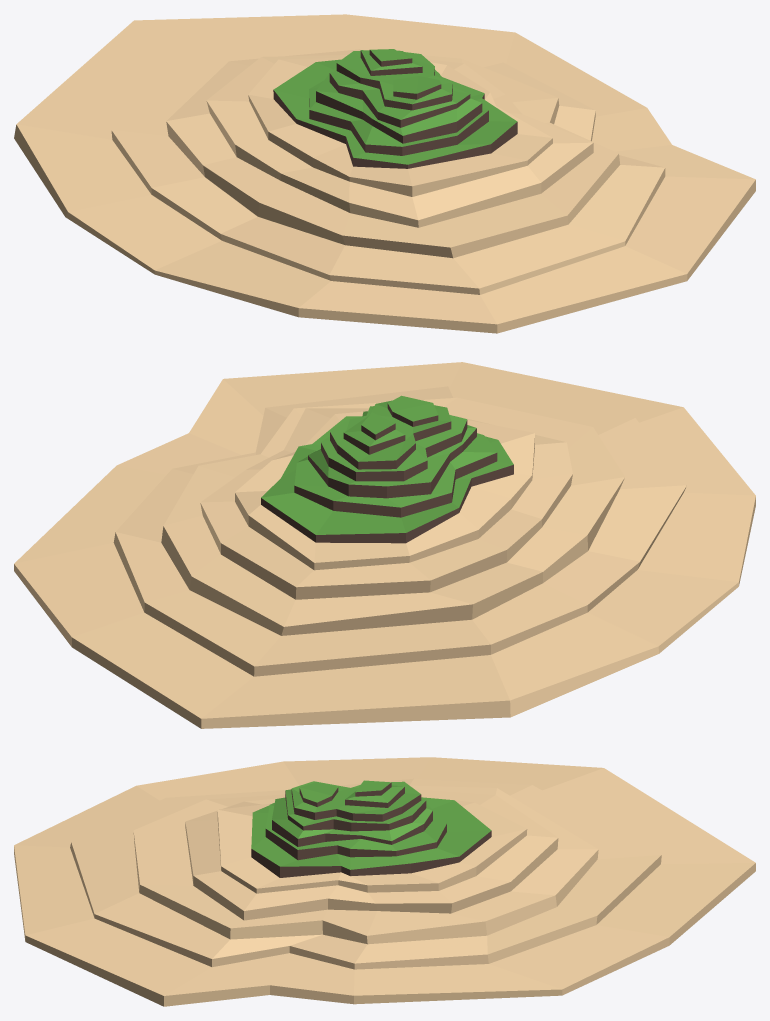
The model's file is is_7-_sable.fbx.
The picture shows the model from 3 angles, top to bottom: view 1: azimuth 30°, elevation 25°; view 2: azimuth 150°, elevation 25°; view 3: azimuth 270°, elevation 25°; orthographic projection. The views are drawn at different scales.
Visible parts, largest first — view 1: Plan; view 2: Plan; view 3: Plan.
Boxes of the visible parts, <box> form: Plan: <box>14,14,755,333</box>; Plan: <box>14,362,755,728</box>; Plan: <box>14,757,755,1006</box>.
Bounding box in the file's own units: 1617 × 327 × 2068.
